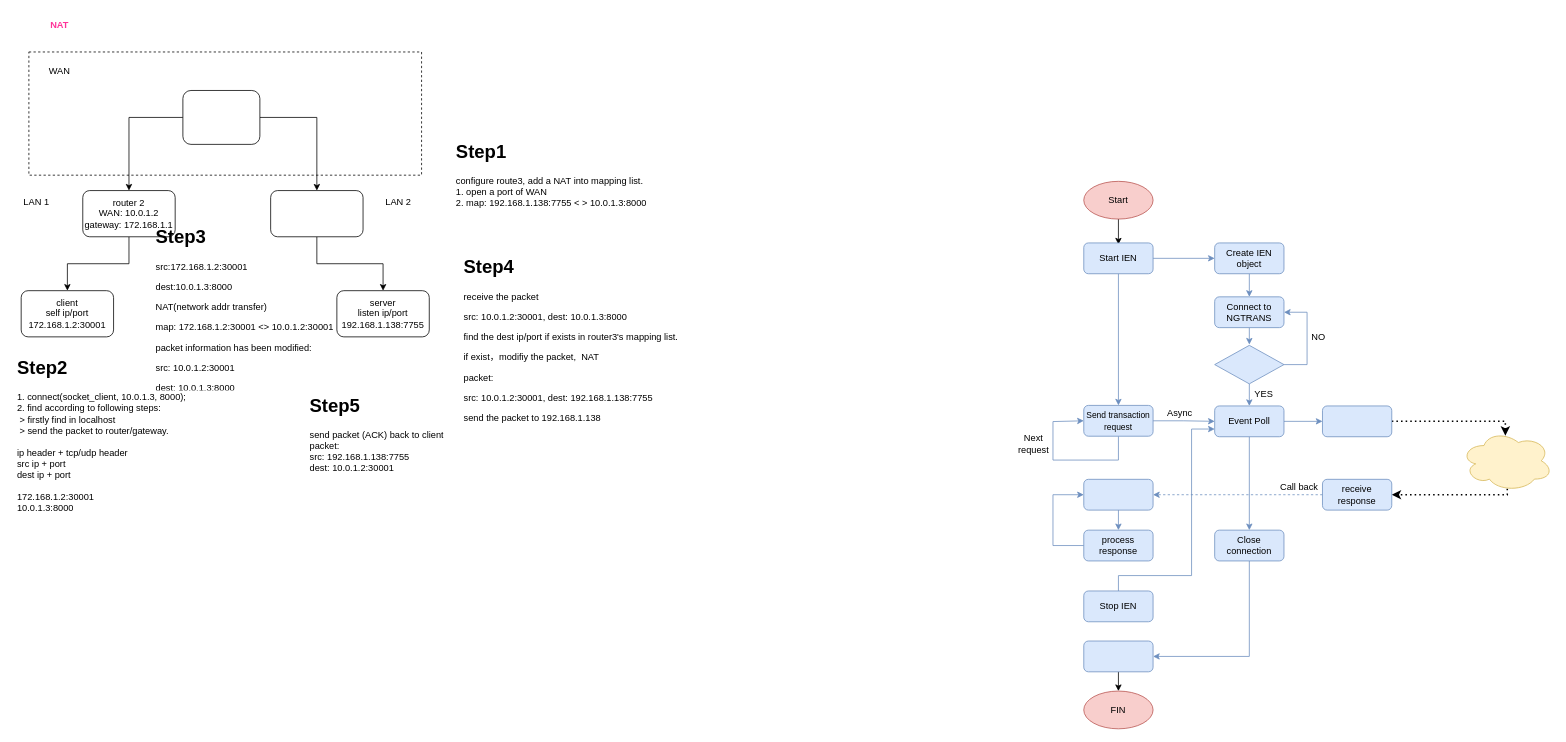
This 1566x742 diagram has some shape labels left out. Each missing label, with the centre of its shape:
"Establish connection" belongs at [1249,364].
"Get transaction response" belongs at [1118,494].
"NGTRANS" belongs at [1506,460].
"router 1 gateway 10.0.1.1" belongs at [221,117].
"router 3 WAN: 10.0.1.3 gateway: 192.168.1.1" belongs at [316,213].
"Send request" belongs at [1357,421].
"Wait for termination" belongs at [1118,656].
